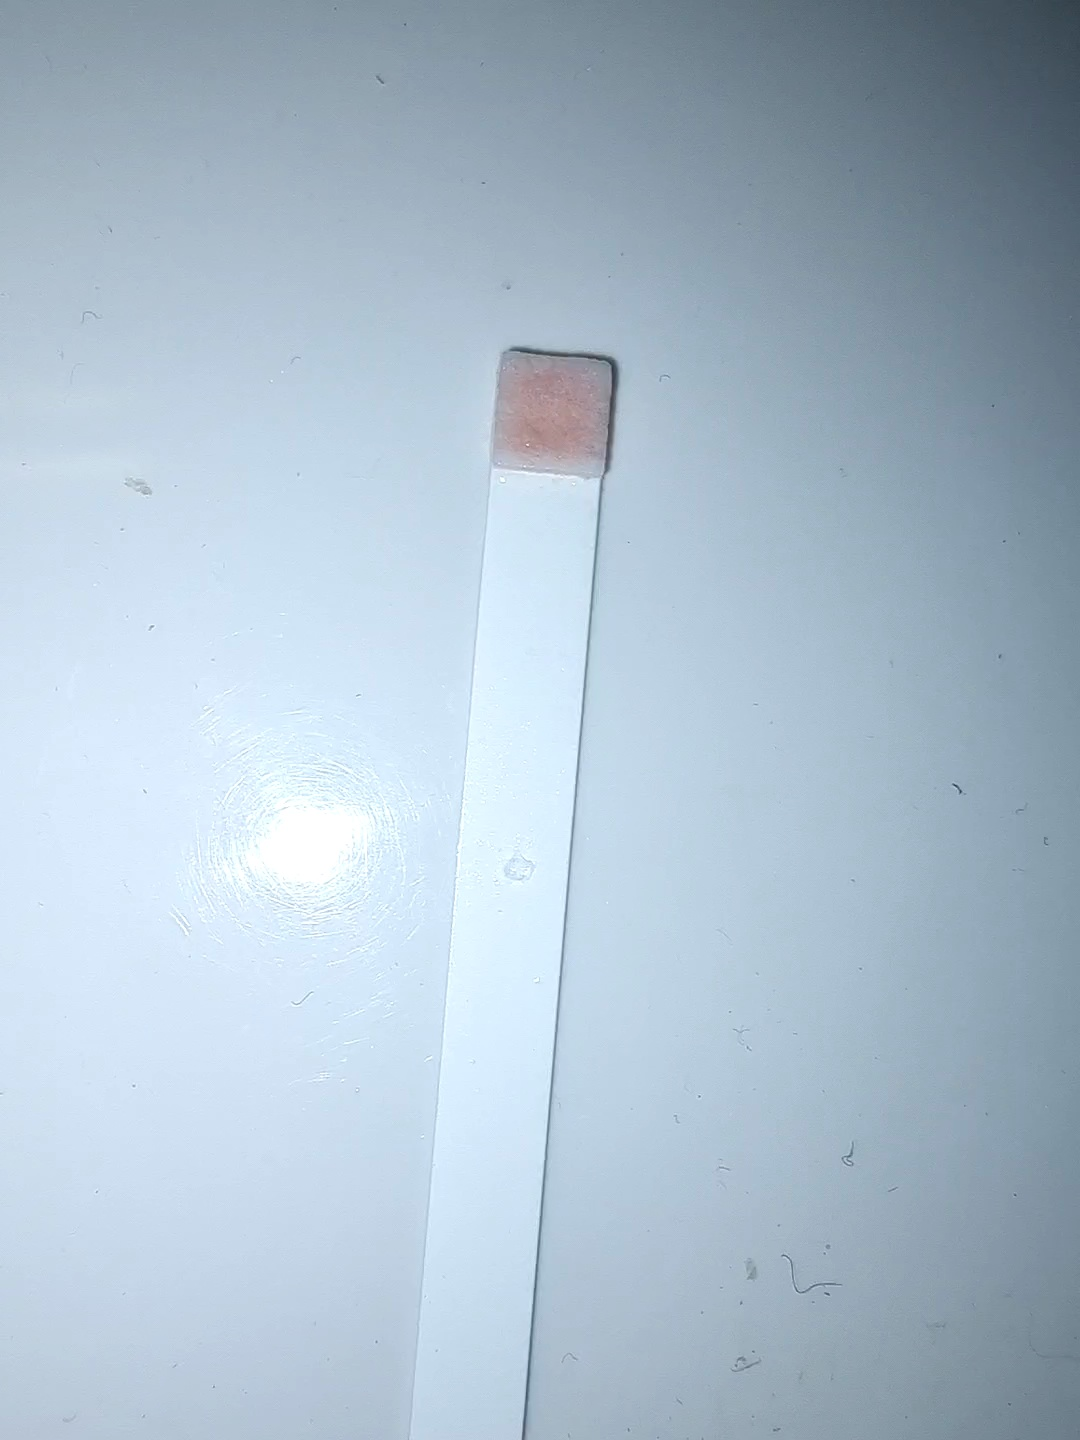keto-tip: (488, 344, 623, 484)
